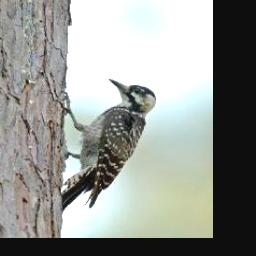Woodpecker: (51, 78, 160, 215)
